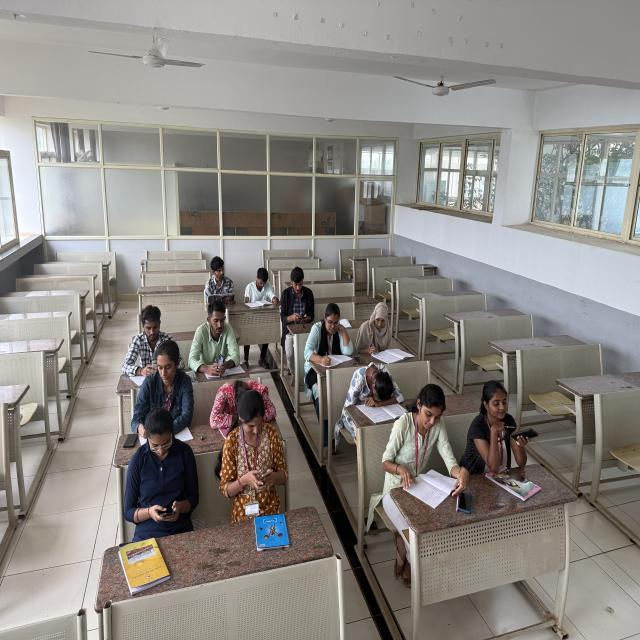Reading: (382, 378, 462, 506), (199, 254, 238, 304)
Sleeping: (339, 358, 409, 435), (208, 374, 282, 434)
Using Phone: (123, 406, 202, 560), (218, 391, 292, 535), (468, 377, 542, 497), (186, 300, 245, 379), (117, 300, 168, 382), (273, 261, 320, 334)
Writing: (125, 334, 196, 440), (349, 296, 411, 364), (304, 302, 356, 376), (242, 265, 278, 313)
